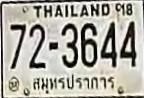2: (28, 24, 44, 68), (28, 24, 44, 65)
3: (61, 22, 77, 68)
4: (119, 20, 136, 66), (100, 21, 116, 67)
6: (80, 22, 97, 66)
7: (10, 23, 25, 68)
SPK: (31, 72, 116, 91)
